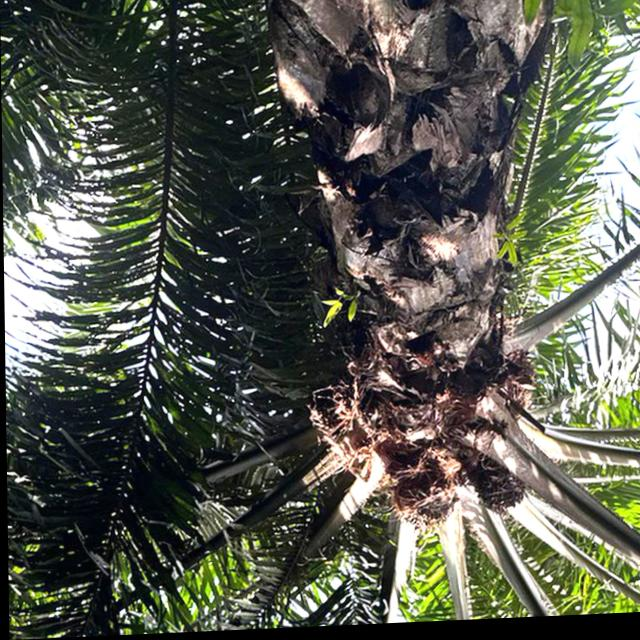unripe: (386, 470, 454, 538), (466, 462, 529, 522)
